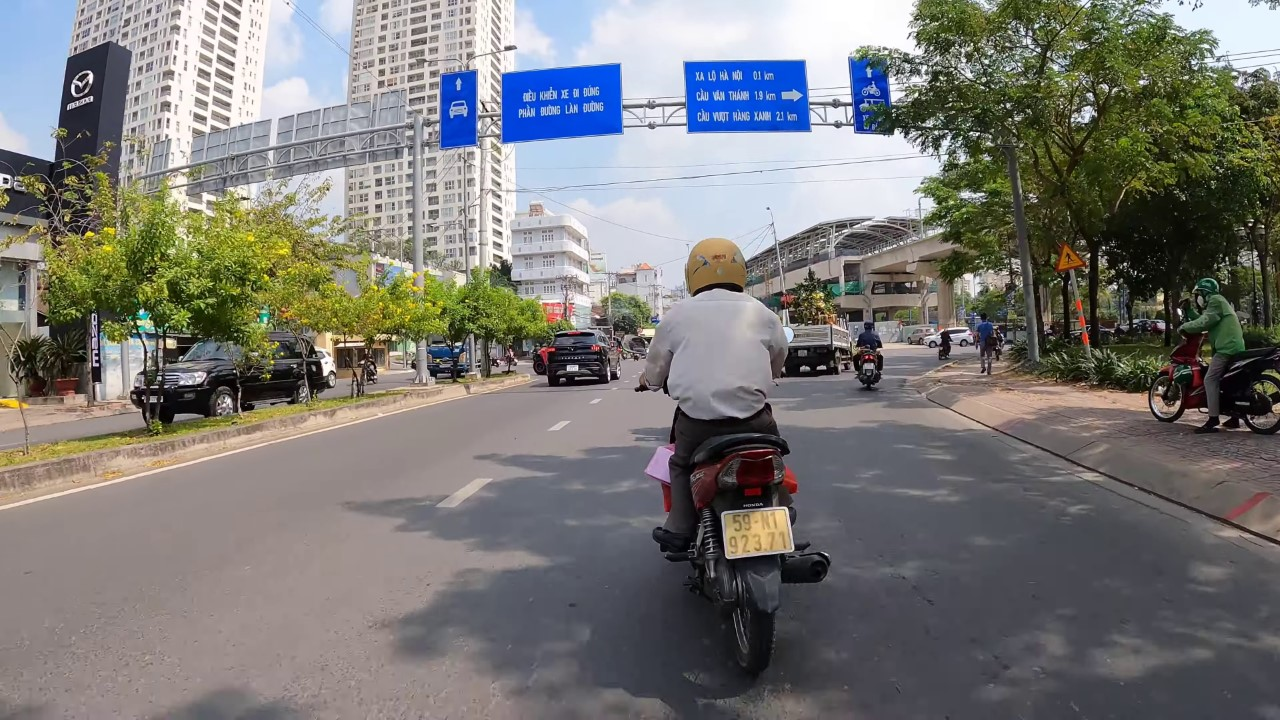can_than_nguoi_qua_duong: (1052, 242, 1090, 275)
